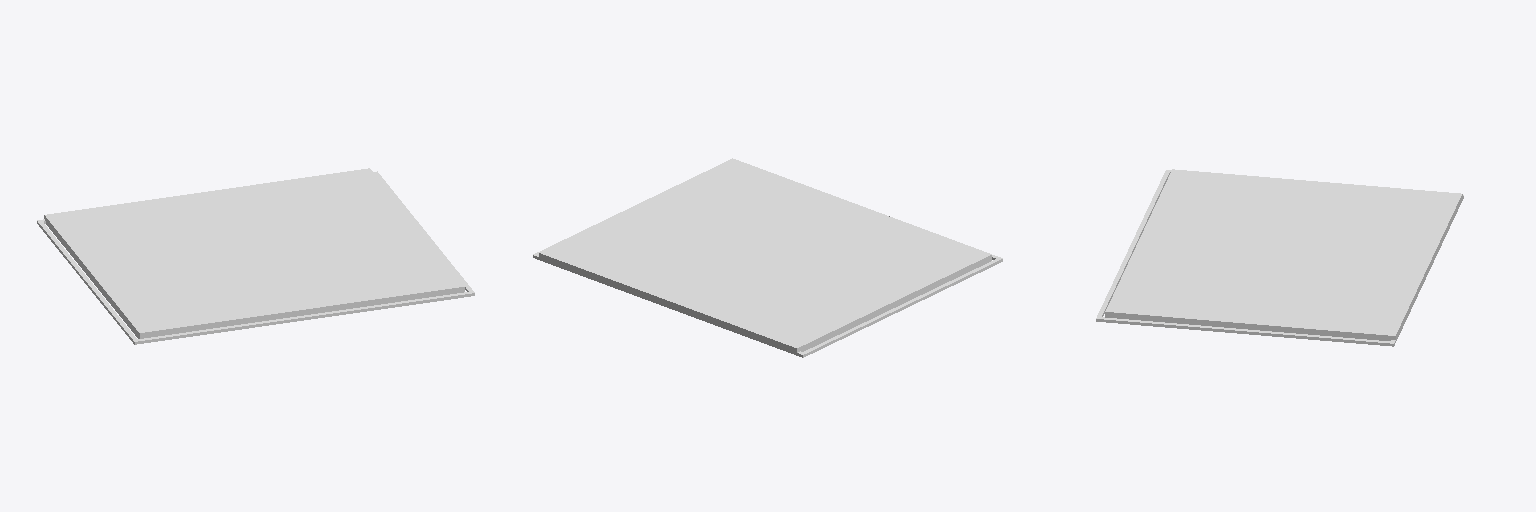
The model's file is Pad.obj.
3 renders of one model, left to right at view 1: azimuth 30°, elevation 25°; view 2: azimuth 150°, elevation 25°; view 3: azimuth 270°, elevation 25°, orthographic.
Visible parts, largest first — view 1: Padmain1, Part4, Part1, Part2; view 2: Padmain1, Part1, Part3; view 3: Padmain1, Part2, Part4.
Part boxes in pixels (x1,y1,x2,y2): Padmain1: (44,168,464,338); Part4: (133,291,474,344); Part1: (37,220,136,344); Part2: (375,171,473,293); Padmain1: (539,159,991,352); Part1: (803,257,1002,357); Part3: (533,253,802,357); Padmain1: (1105,169,1462,340); Part2: (1096,317,1394,345); Part4: (1096,170,1170,321).
Size of the model in its own units: 51.54 by 1 by 46.04.